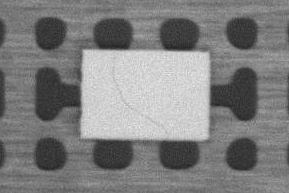DIE_CRACK: (112, 51, 168, 134)
